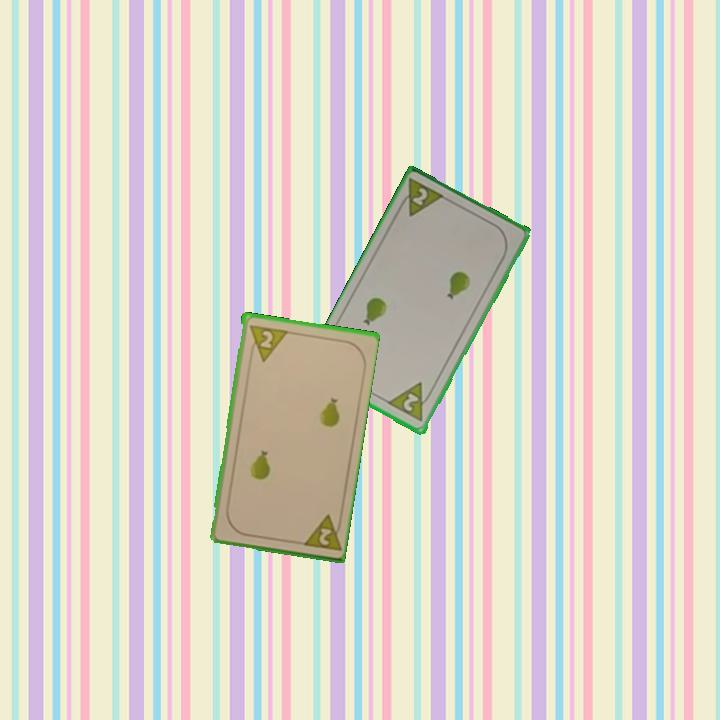2p: (394, 175, 448, 220), (385, 379, 437, 425), (245, 321, 289, 364), (315, 524, 334, 548)
